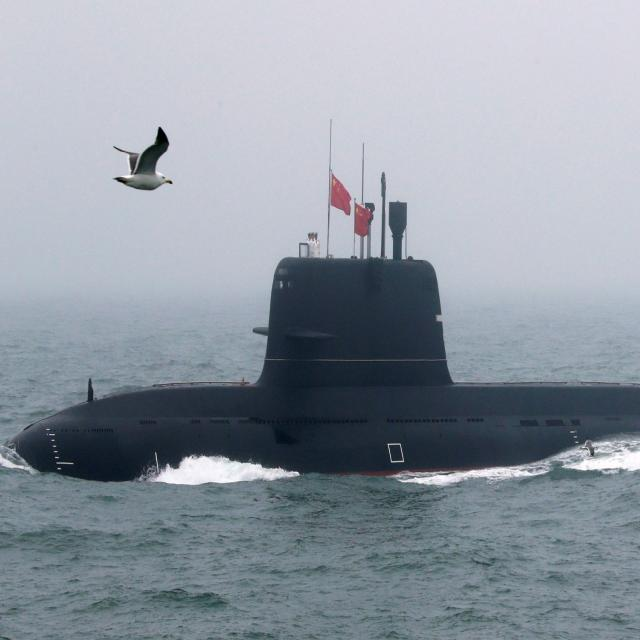Submarine-Jin-Class-CHI: (13, 100, 640, 483)
